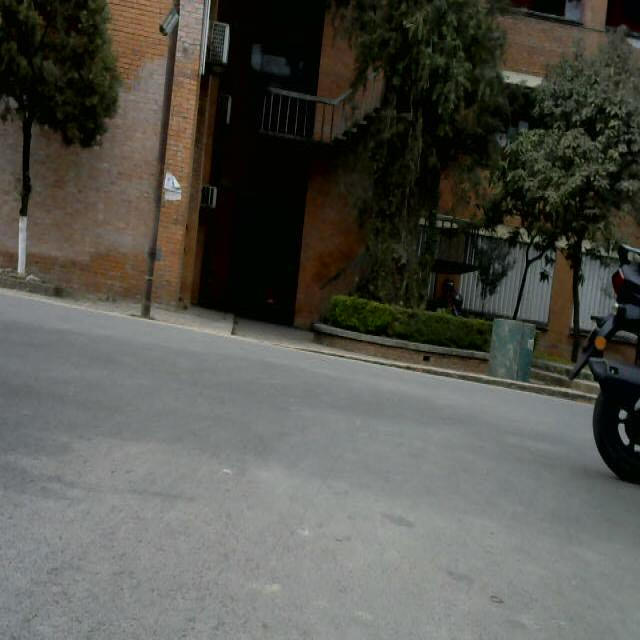Buildings: (220, 0, 349, 297)
Pole: (138, 0, 183, 355)
Road: (1, 293, 639, 640)
dustbin: (482, 308, 538, 386)
trees: (367, 0, 480, 355), (2, 3, 109, 282), (516, 25, 639, 248), (575, 225, 640, 484)
